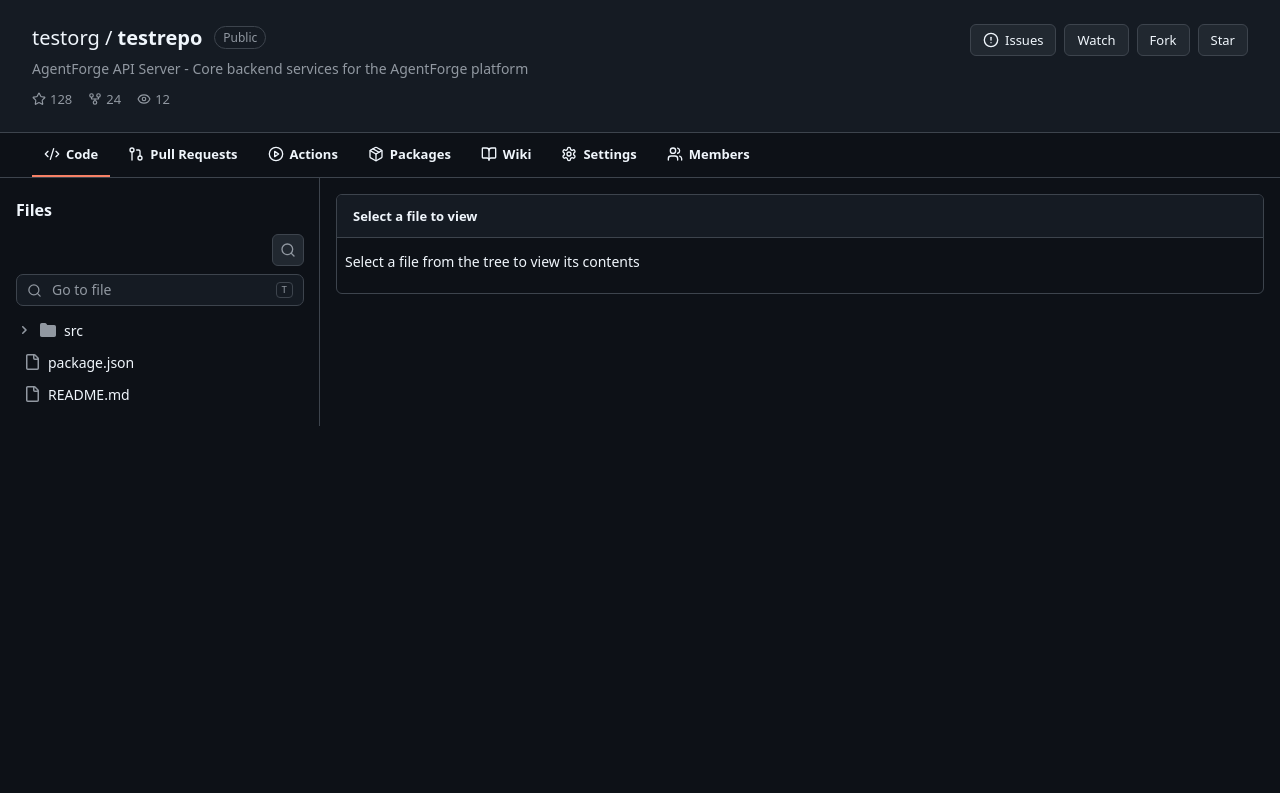
Test: RepositoryDetailPage - Pull Requests Tab › filters PRs by status when sidebar filter is clicked
Click the tab "Pull Requests" at {"x": 183, "y": 155}, box [116, 133, 250, 177]
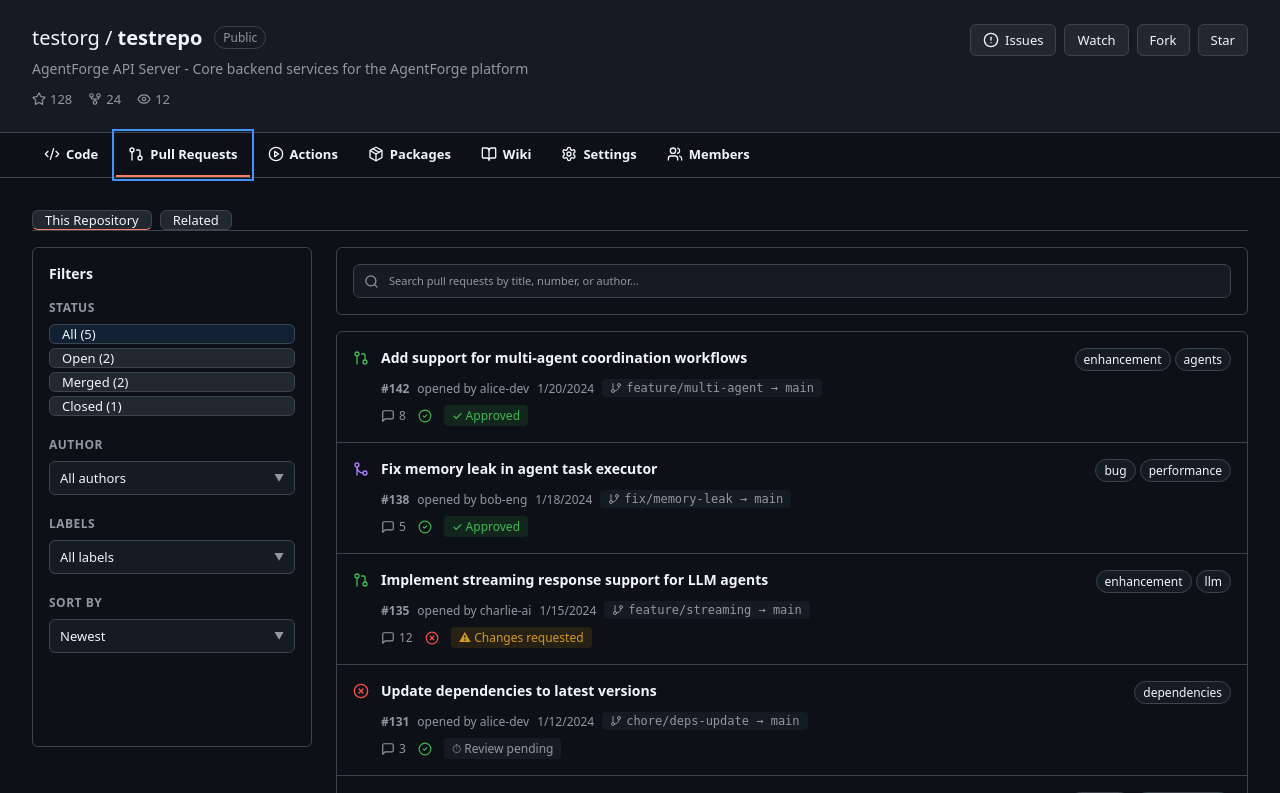
Expected: the button "All (5)" is shown, [49, 324, 295, 344]
Click the button "Open (2)" at {"x": 172, "y": 358}, box [49, 348, 295, 368]
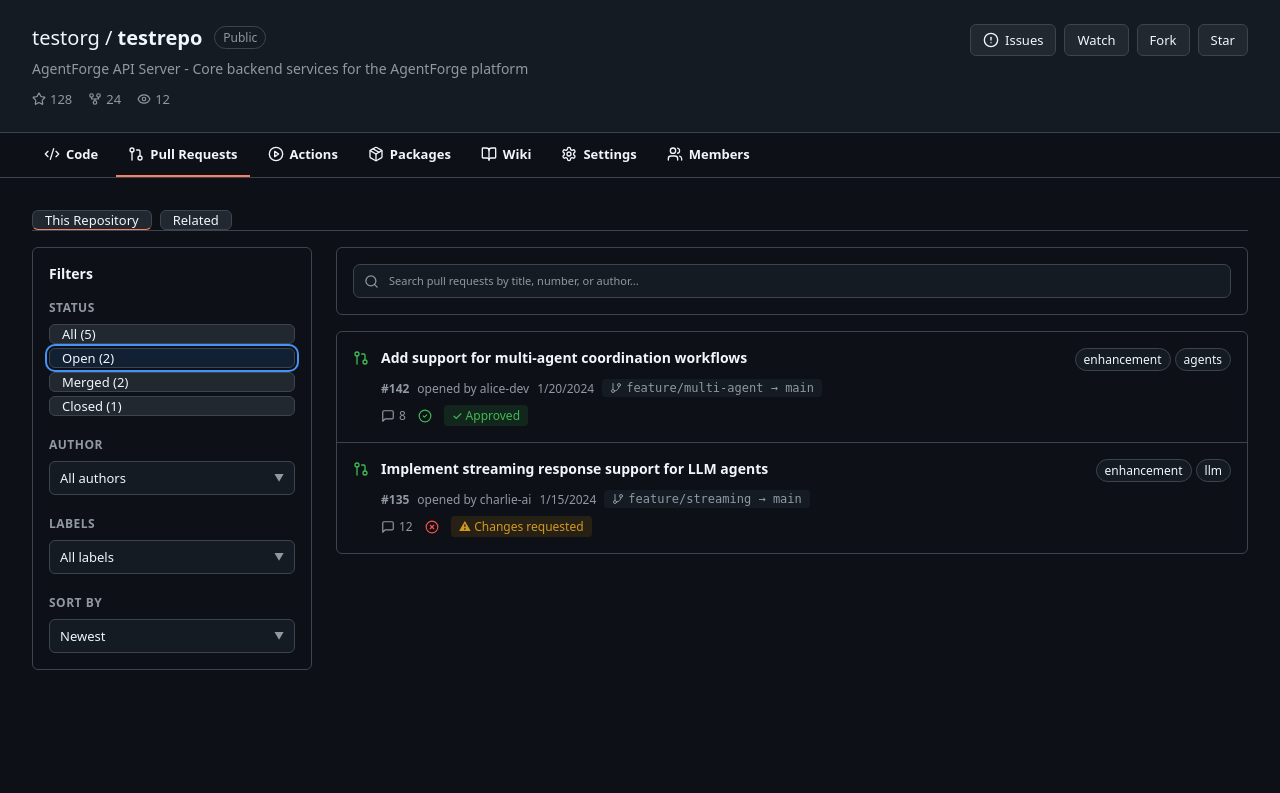
Expected: the heading "Add support for multi-agent coordination workflows" is shown, [381, 348, 747, 367]
Expected: the heading "Implement streaming response support for LLM agents" is shown, [381, 459, 768, 478]
Expected: the heading "Fix memory leak in agent task executor" is gone
